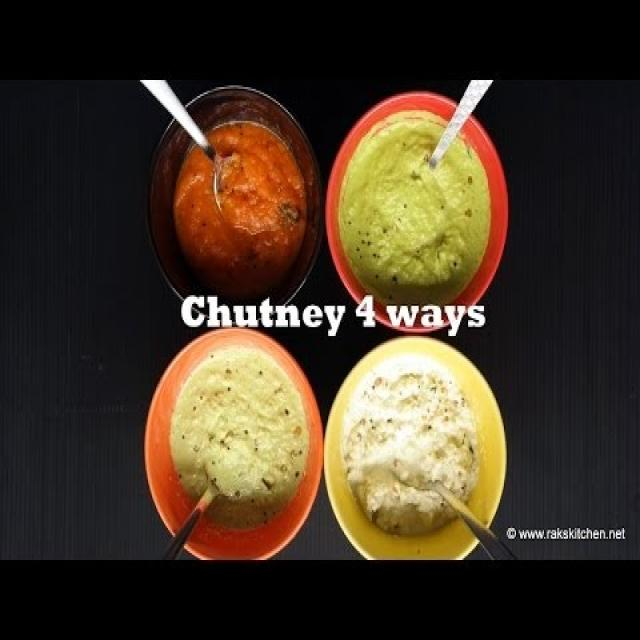puthina chutney: (336, 123, 500, 295)
